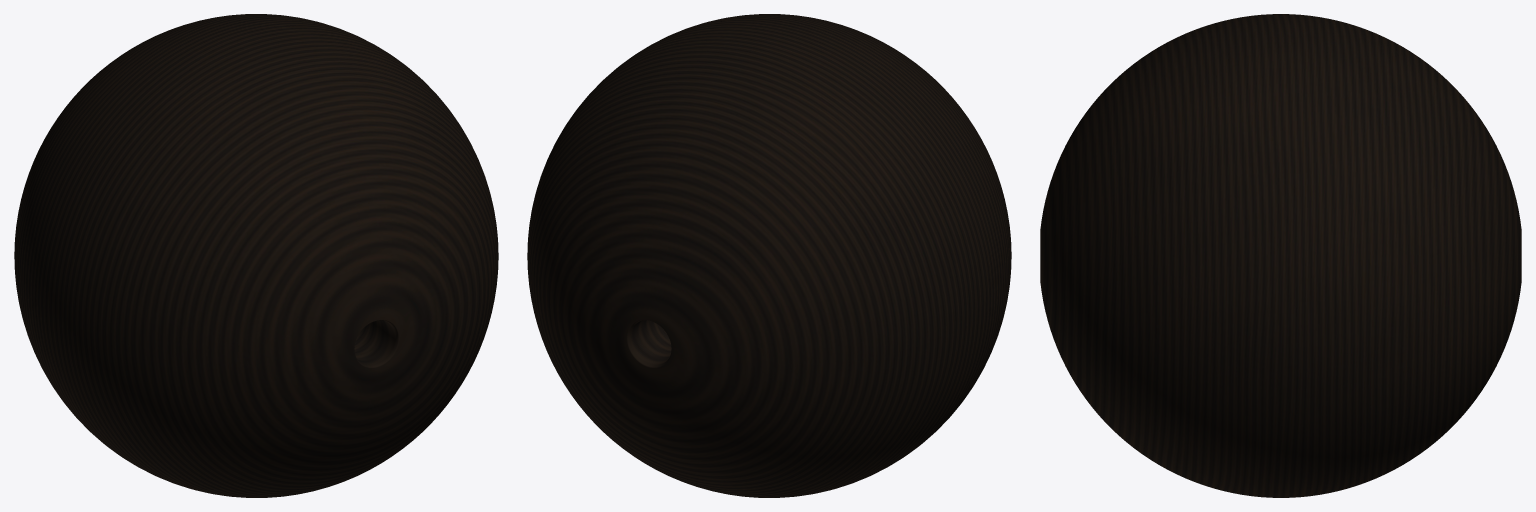
File: karungali-10mm.glb
The picture shows the model from 3 angles, left to right: view 1: azimuth 30°, elevation 25°; view 2: azimuth 150°, elevation 25°; view 3: azimuth 270°, elevation 25°; orthographic projection.
Parts seen in each view (by area): view 1: karungali.001; view 2: karungali.001; view 3: karungali.001.
Boxes of the visible parts, x1,y1,x2,y2 form: karungali.001: (14,14,498,497); karungali.001: (527,14,1011,497); karungali.001: (1040,14,1521,497).
Bounding box in the file's own units: 0.01 × 0.01 × 0.00994.
1 material, 1 textured.
